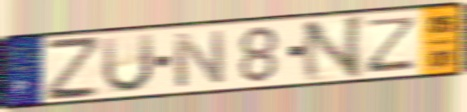8: (236, 24, 284, 85)
N: (299, 13, 368, 84), (169, 28, 228, 90)
U: (99, 30, 157, 96)
Z: (44, 36, 102, 104), (363, 13, 420, 75)
